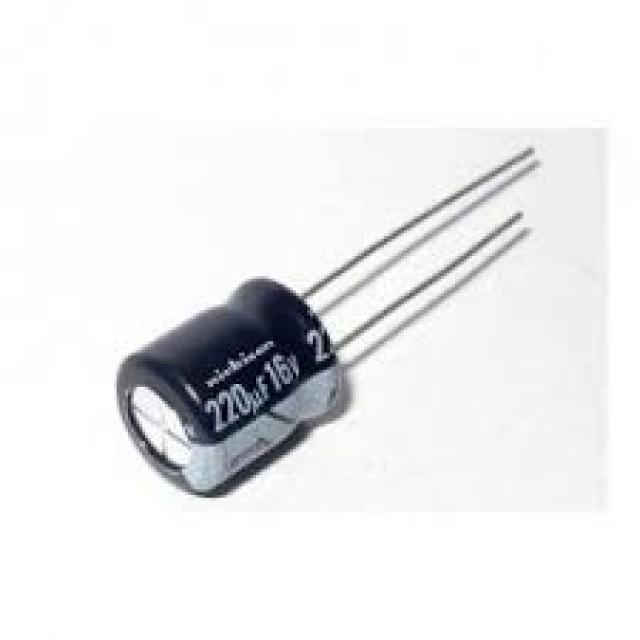Capacitor: (114, 279, 353, 501)
